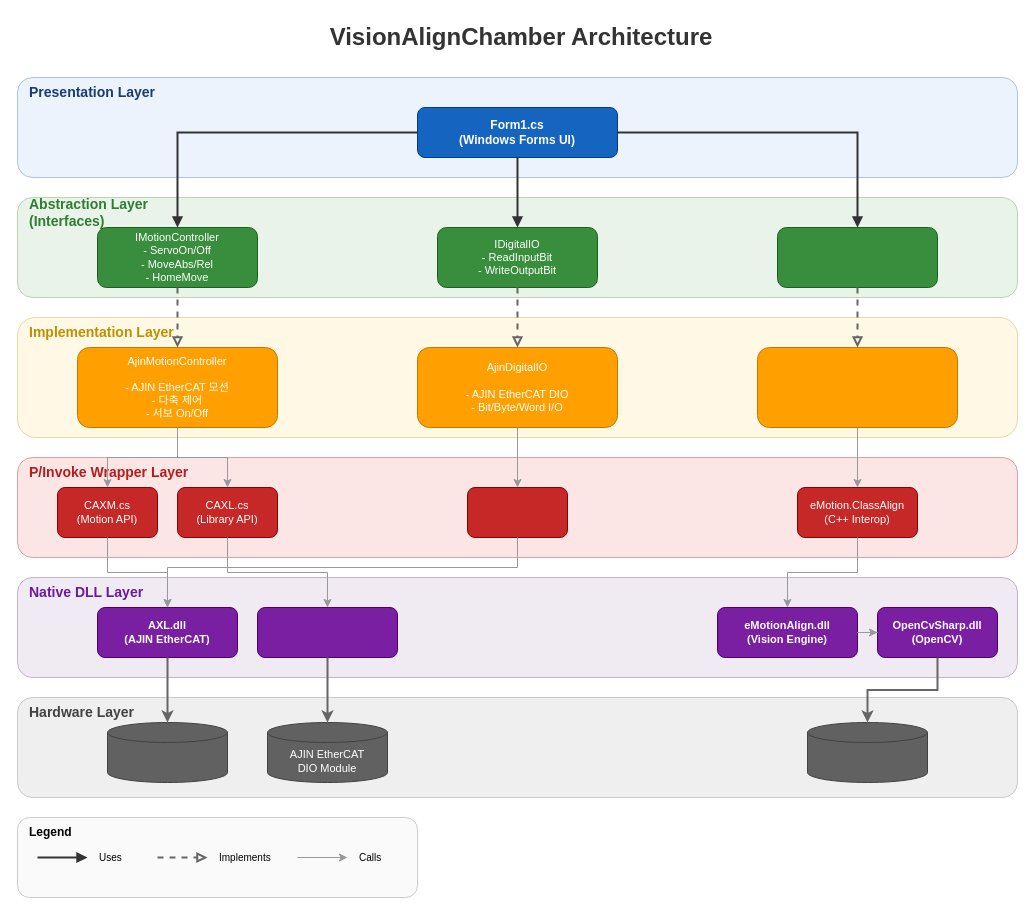
Image size: 1035x915. Some labels were removed from this diagram. The centre of each missing label's shape, as x and y in pixels:
"AJIN EtherCAT Motion Controller" goes at pixel 167 752.
"Camera (Image Sensor)" goes at pixel 867 752.
"CAXD.cs (DIO API)" goes at pixel 517 512.
"EzBasicAxl.dll (AJIN Utility)" goes at pixel 327 632.
"IVisionProcessor - AddImage - ExecuteInspection - GetResult" goes at pixel 857 257.
"VisionAlignWrapper - eMotionAlign.dll 래퍼 - 노치/플랫 검출 - 결과 추출" goes at pixel 857 387.
